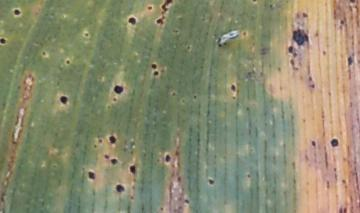tarspot: (156, 1, 173, 25), (292, 28, 308, 45), (113, 83, 124, 95), (126, 15, 137, 26), (128, 164, 137, 176), (346, 54, 354, 67), (59, 95, 68, 106), (108, 134, 117, 144), (115, 184, 125, 193), (331, 138, 340, 148), (87, 171, 96, 180), (12, 8, 22, 16), (109, 158, 120, 165), (287, 44, 294, 55), (229, 83, 237, 92), (289, 57, 296, 67), (309, 139, 317, 147), (184, 43, 192, 51), (165, 154, 172, 163), (182, 198, 191, 205), (207, 178, 215, 185), (191, 92, 198, 100), (301, 11, 309, 18), (339, 206, 347, 213), (338, 18, 345, 26), (320, 48, 327, 56), (176, 173, 182, 182), (64, 58, 71, 65), (150, 63, 157, 70), (103, 153, 110, 160), (105, 104, 112, 111), (170, 90, 177, 97), (244, 172, 251, 179), (1, 37, 7, 45), (153, 70, 160, 76), (146, 5, 153, 11), (97, 138, 104, 144), (158, 206, 165, 212), (310, 82, 316, 89), (307, 75, 313, 82), (341, 178, 347, 185), (83, 32, 89, 38), (41, 50, 47, 56), (112, 96, 118, 102), (129, 194, 135, 200), (242, 30, 247, 37), (92, 144, 98, 149), (347, 1, 356, 4), (217, 43, 222, 48), (269, 3, 273, 9), (252, 1, 257, 3)
